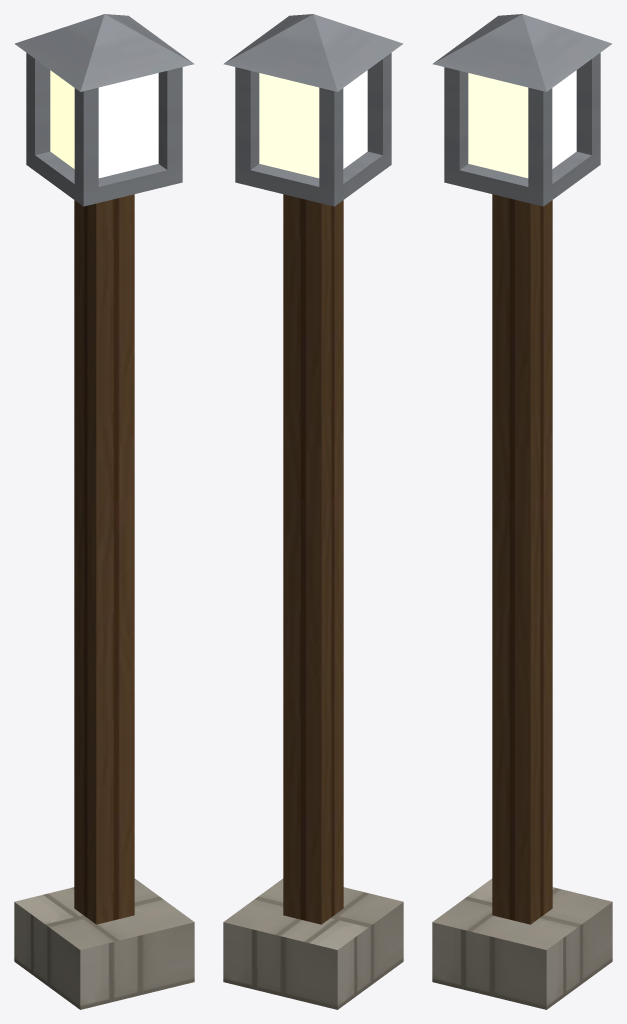
Rendered from lamp.glb.
3 views of the same model, side by side, from view 1: azimuth 30°, elevation 25°; view 2: azimuth 150°, elevation 25°; view 3: azimuth 330°, elevation 25° (orthographic).
Parts seen in each view (by area): view 1: prop.lamp; view 2: prop.lamp; view 3: prop.lamp.
Part boxes in pixels (x1=…): prop.lamp: x1=14, y1=14, x2=194, y2=1009; prop.lamp: x1=223, y1=14, x2=403, y2=1009; prop.lamp: x1=432, y1=14, x2=612, y2=1009.
Size of the model in its own units: 0.3 by 2.4 by 0.3.
4 materials, 3 textured.
